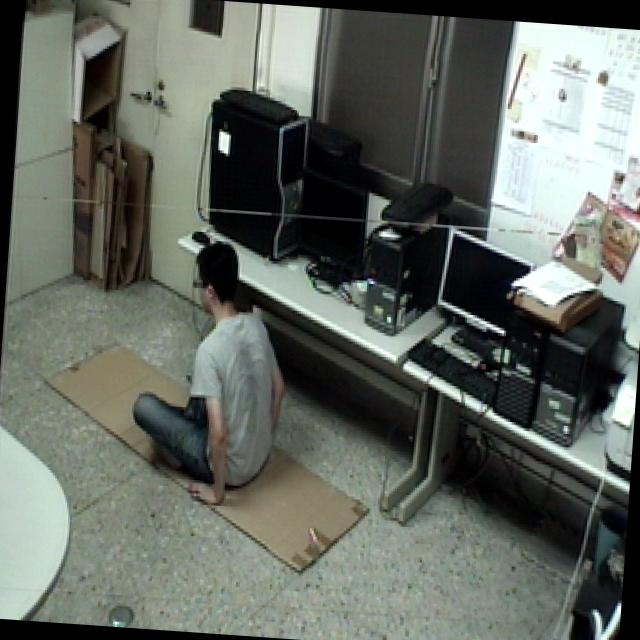sit: (118, 230, 300, 511)
